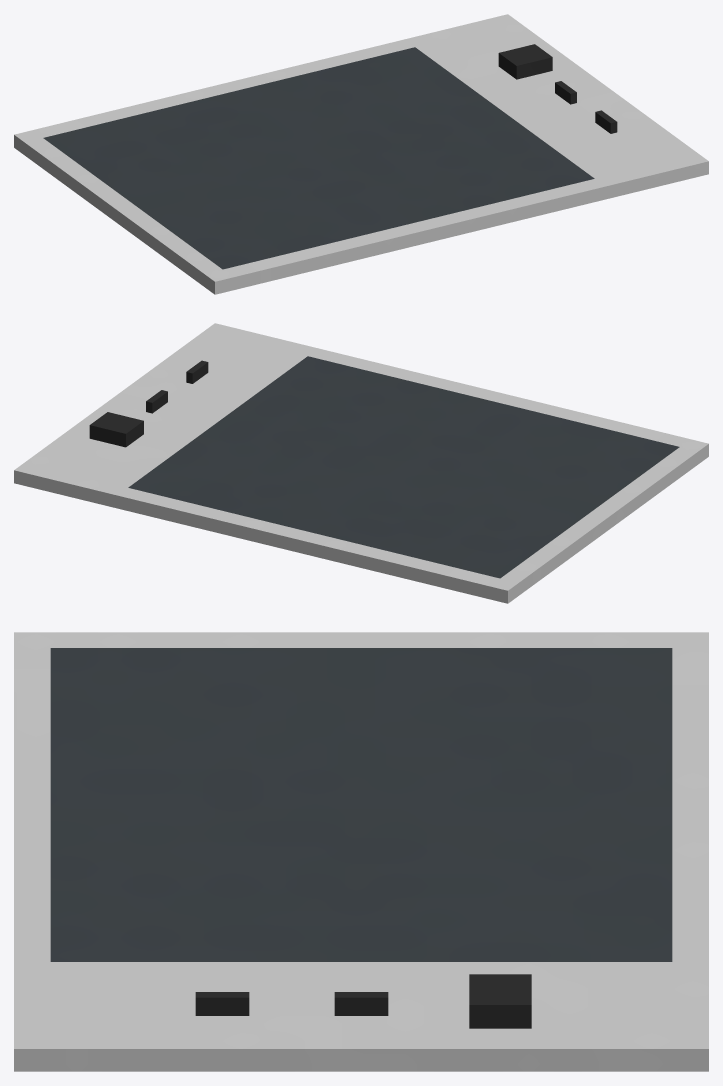
File: Drawing_Taplet_01.fbx
The picture shows the model from 3 angles, top to bottom: view 1: azimuth 30°, elevation 25°; view 2: azimuth 150°, elevation 25°; view 3: azimuth 270°, elevation 25°; orthographic projection. The views are drawn at different scales.
Parts seen in each view (by area): view 1: Drawing_Taplet_01; view 2: Drawing_Taplet_01; view 3: Drawing_Taplet_01.
Boxes of the visible parts, left/top/right/bottom form: Drawing_Taplet_01: left=14, top=14, right=708, bottom=294; Drawing_Taplet_01: left=14, top=323, right=708, bottom=603; Drawing_Taplet_01: left=14, top=632, right=708, bottom=1071.
Size of the model in its own units: 0.6951 by 0.0358 by 0.4899.
